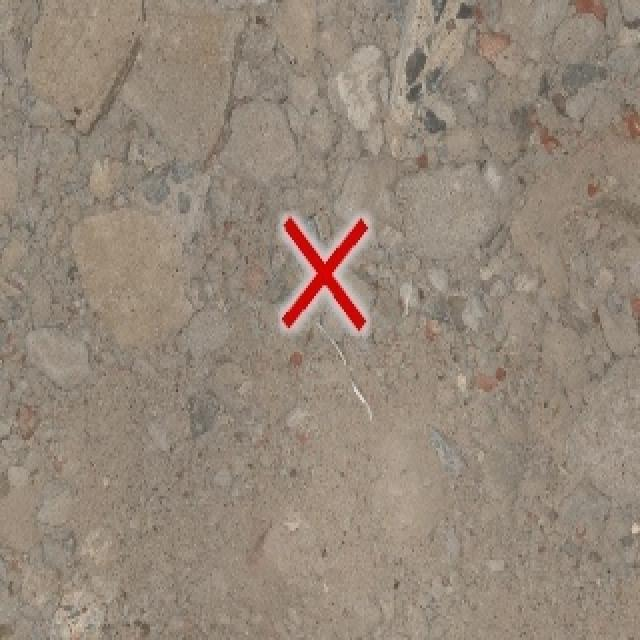x_marker: (281, 218, 367, 330)
